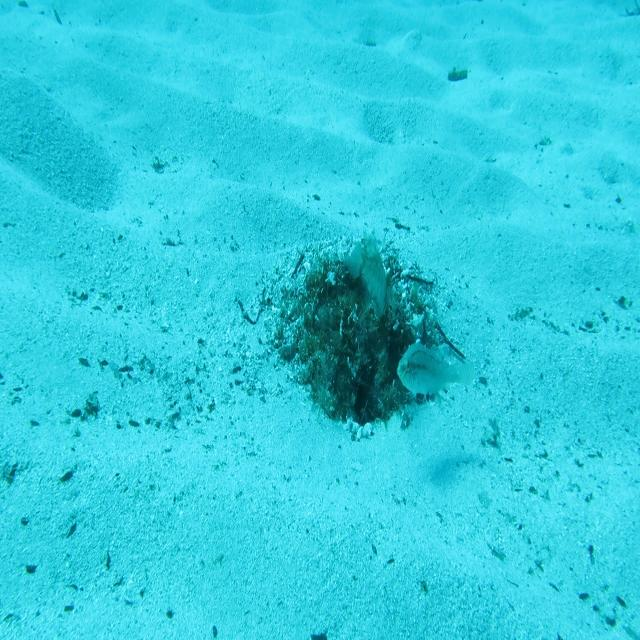NIP_CORE: (346, 239, 389, 321)
core_nest: (329, 271, 378, 324)
female: (396, 337, 477, 408)
nest: (250, 228, 456, 462)
vegetation: (447, 66, 470, 85)
